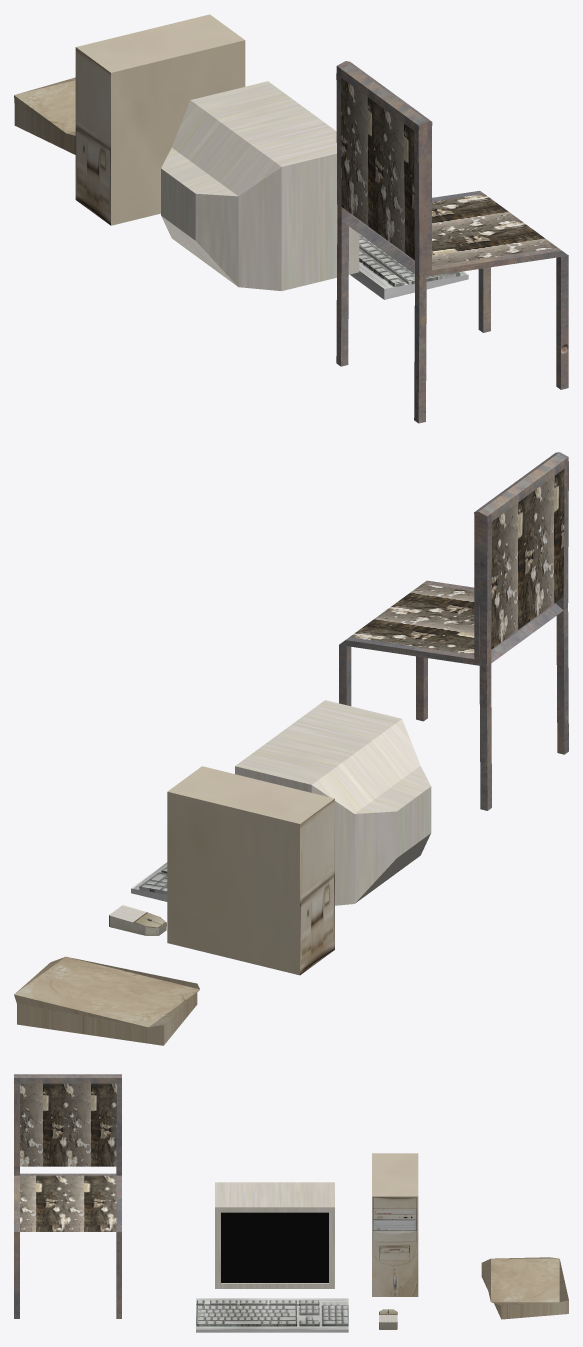
The model's file is OfficePack.fbx.
3 views of the same model, one above another, from view 1: azimuth 30°, elevation 25°; view 2: azimuth 150°, elevation 25°; view 3: azimuth 270°, elevation 25° (orthographic). The views are drawn at different scales.
Parts seen in each view (by area): view 1: Cube.001, Cube.004, Cube.002, Plane, Cube; view 2: Cube.002, Cube.004, Cube.001, Plane, Cube.003, Cube; view 3: Cube.004, Cube.001, Cube.002, Cube, Plane, Cube.003.
Part boxes in pixels (x1,y1,x2,y2): Cube.001: [161, 81, 359, 291]; Cube.004: [336, 61, 568, 423]; Cube.002: [75, 14, 245, 225]; Plane: [14, 77, 75, 154]; Cube: [350, 234, 468, 299]; Cube.002: [167, 766, 334, 975]; Cube.004: [339, 452, 568, 810]; Cube.001: [235, 700, 431, 905]; Plane: [14, 956, 199, 1045]; Cube.003: [109, 905, 166, 935]; Cube: [131, 862, 167, 901]; Cube.004: [14, 1074, 121, 1318]; Cube.001: [215, 1182, 334, 1288]; Cube.002: [372, 1153, 418, 1296]; Cube: [196, 1298, 348, 1332]; Plane: [481, 1257, 568, 1319]; Cube.003: [379, 1309, 397, 1329].
Size of the model in its own units: 169 by 214 by 535.
